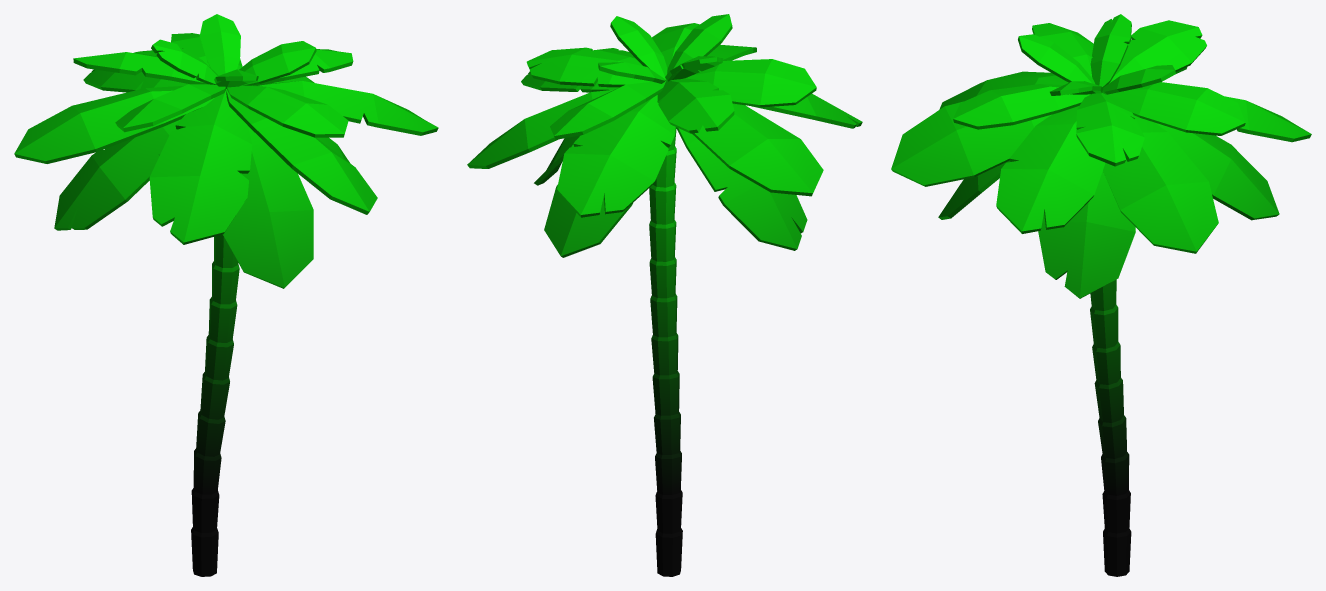
Rendered from SM_Tree_Palm_02.fbx.
The picture shows the model from 3 angles, left to right: view 1: azimuth 30°, elevation 25°; view 2: azimuth 150°, elevation 25°; view 3: azimuth 270°, elevation 25°; orthographic projection.
Parts seen in each view (by area): view 1: SM_Tree_Palm_02_LOD0; view 2: SM_Tree_Palm_02_LOD0; view 3: SM_Tree_Palm_02_LOD0.
Part boxes in pixels (x1=…): SM_Tree_Palm_02_LOD0: x1=14, y1=14, x2=438, y2=576; SM_Tree_Palm_02_LOD0: x1=467, y1=14, x2=862, y2=576; SM_Tree_Palm_02_LOD0: x1=891, y1=14, x2=1311, y2=576.
Size of the model in its own units: 440 by 639 by 457.
